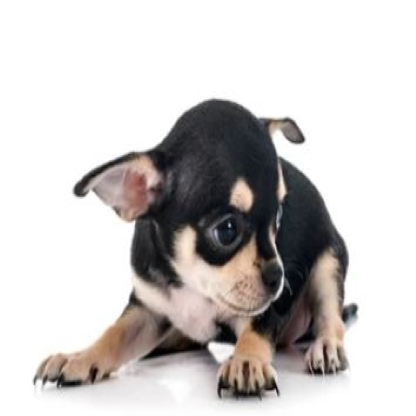chihuahua: (31, 96, 364, 401)
